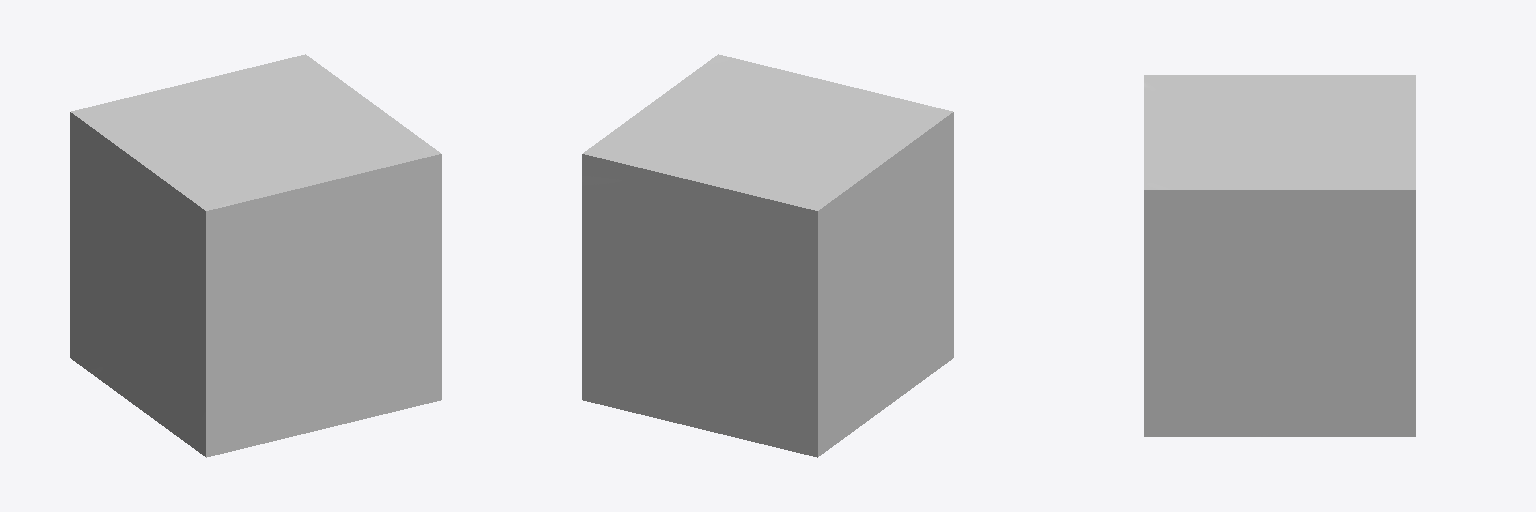
3 renders of one model, left to right at view 1: azimuth 30°, elevation 25°; view 2: azimuth 150°, elevation 25°; view 3: azimuth 270°, elevation 25°, orthographic.
Visible parts, largest first — view 1: 立方体; view 2: 立方体; view 3: 立方体.
Boxes of the visible parts, <box> form: 立方体: <box>70,54,441,457</box>; 立方体: <box>582,54,953,457</box>; 立方体: <box>1144,75,1415,436</box>.
Bounding box in the file's own units: 2 × 2 × 2.
1 materials, 1 textured.